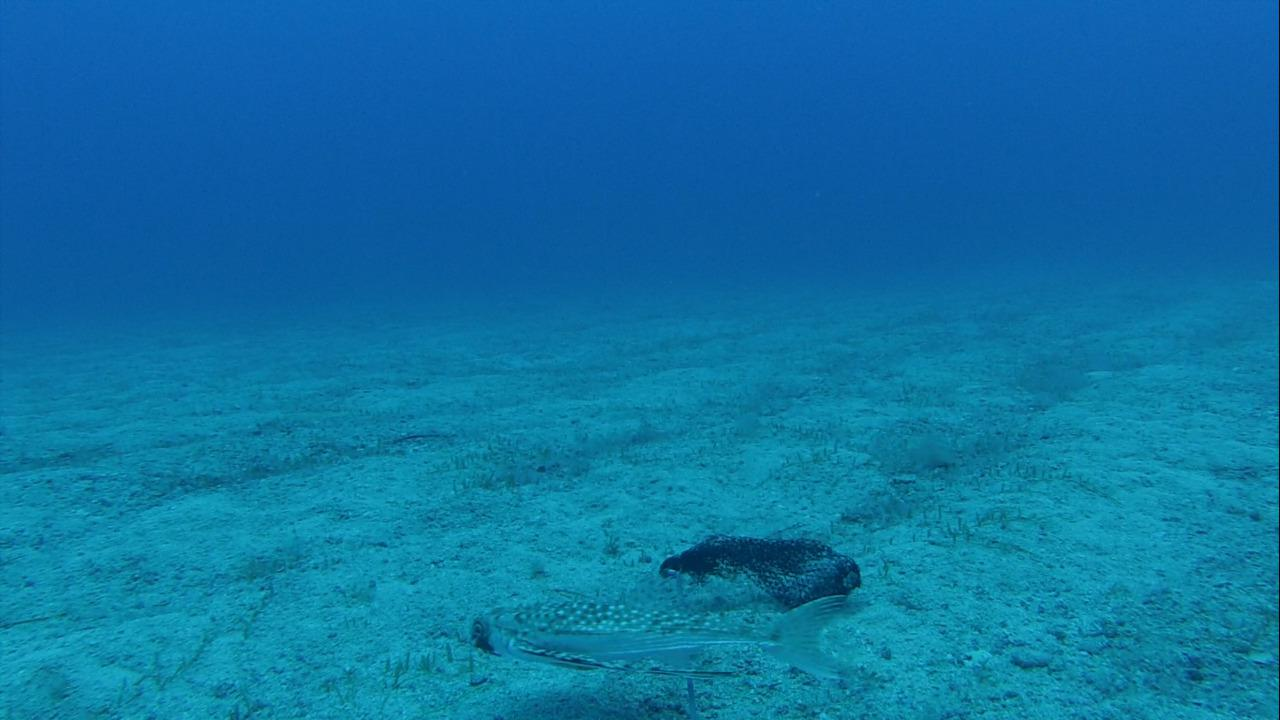dactylopterus: (465, 590, 893, 719)
